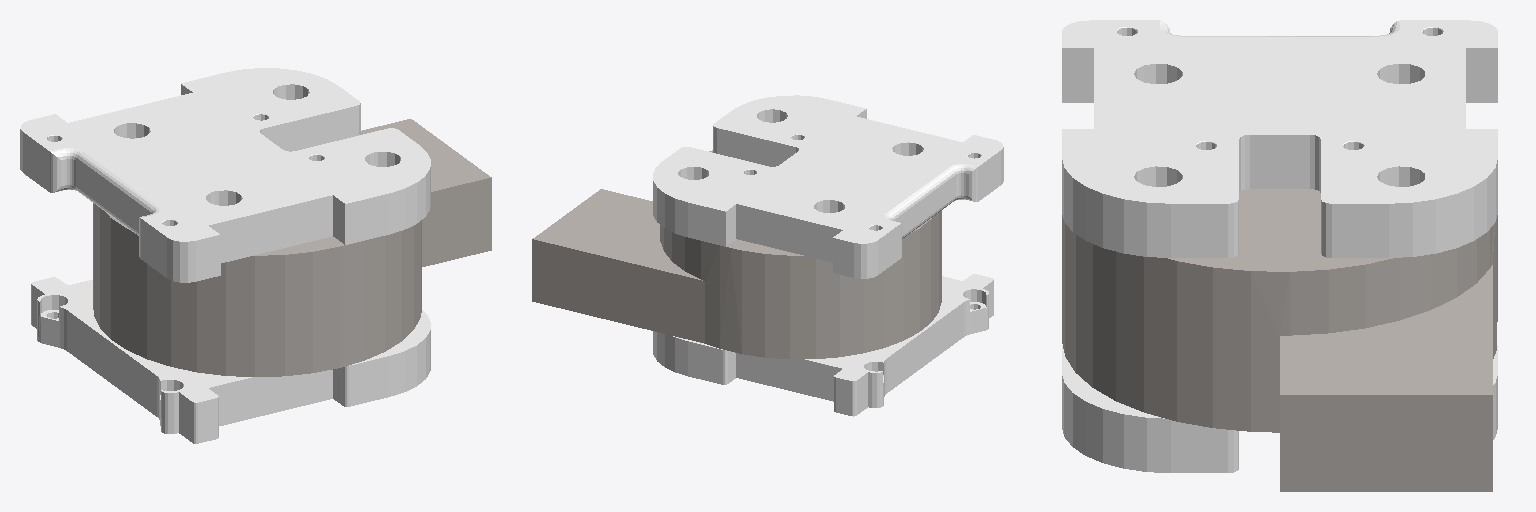
robot.urdf — FT_Electric2:
<?xml version="1.0" ?>
<robot
  name="FT_Electric2">
  <link
    name="FT_bottom_plate">
    <inertial>
      <origin
        xyz="-0.0051288 -0.070659 0.18619"
        rpy="0 0 0" />
      <mass
        value="0.051726" />
      <inertia
        ixx="2.5588E-05"
        ixy="2.4673E-08"
        ixz="-3.8072E-21"
        iyy="4.7997E-05"
        iyz="-1.6535E-21"
        izz="2.3459E-05" />
    </inertial>
    <visual>
      <origin
        xyz="0 0 0"
        rpy="0 0 0" />
      <geometry>
        <mesh
          filename="package://baxter_description/urdf/FT_Electric2/meshes/FT_bottom_plate.STL" />
      </geometry>
      <material
        name="">
        <color
          rgba="1 1 1 1" />
      </material>
    </visual>
    <collision>
      <origin
        xyz="0 0 0"
        rpy="0 0 0" />
      <geometry>
        <mesh
          filename="package://baxter_description/urdf/FT_Electric2/meshes/FT_bottom_plate.STL" />
      </geometry>
    </collision>
  </link>
  <link
    name="FT">
    <inertial>
      <origin
        xyz="0.0030381 0.0065967 0.01714"
        rpy="0 0 0" />
      <mass
        value="1.4264" />
      <inertia
        ixx="0.0010241"
        ixy="0.00016944"
        ixz="2.4095E-05"
        iyy="0.00071846"
        iyz="5.2318E-05"
        izz="0.0014993" />
    </inertial>
    <visual>
      <origin
        xyz="0 0 0"
        rpy="0 0 0" />
      <geometry>
        <mesh
          filename="package://baxter_description/urdf/FT_Electric2/meshes/FT.STL" />
      </geometry>
      <material
        name="">
        <color
          rgba="0.77647 0.75686 0.73725 1" />
      </material>
    </visual>
    <collision>
      <origin
        xyz="0 0 0"
        rpy="0 0 0" />
      <geometry>
        <mesh
          filename="package://baxter_description/urdf/FT_Electric2/meshes/FT.STL" />
      </geometry>
    </collision>
  </link>
  <joint
    name="FT_Bottom_Joint"
    type="fixed">
    <origin
      xyz="0.000838540084873874 -0.186192210057174 -0.0326798827071635"
      rpy="3.14159265358979 6.12303176911189E-17 1.5707963267949" />
    <parent
      link="FT_bottom_plate" />
    <child
      link="FT" />
    <axis
      xyz="0 0 0" />
  </joint>
  <link
    name="FT_Top_Plate">
    <inertial>
      <origin
        xyz="-3.2056E-10 0.0092556 0.0055057"
        rpy="0 0 0" />
      <mass
        value="0.053196" />
      <inertia
        ixx="2.5333E-05"
        ixy="5.8629E-13"
        ixz="-4.7319E-16"
        iyy="2.7087E-05"
        iyz="2.2091E-08"
        izz="5.1339E-05" />
    </inertial>
    <visual>
      <origin
        xyz="0 0 0"
        rpy="0 0 0" />
      <geometry>
        <mesh
          filename="package://baxter_description/urdf/FT_Electric2/meshes/FT_Top_Plate.STL" />
      </geometry>
      <material
        name="">
        <color
          rgba="1 1 1 1" />
      </material>
    </visual>
    <collision>
      <origin
        xyz="0 0 0"
        rpy="0 0 0" />
      <geometry>
        <mesh
          filename="package://baxter_description/urdf/FT_Electric2/meshes/FT_Top_Plate.STL" />
      </geometry>
    </collision>
  </link>
  <joint
    name="FT_Top_Joint"
    type="fixed">
    <origin
      xyz="0 -0.0160000000000059 -0.011"
      rpy="-3.46944695195361E-16 0 0" />
    <parent
      link="FT" />
    <child
      link="FT_Top_Plate" />
    <axis
      xyz="0 0 0" />
  </joint>
</robot>

--- Render facts (derived) ---
3 views of the same robot in one strip: view 1: azimuth 30°, elevation 25°; view 2: azimuth 150°, elevation 25°; view 3: azimuth 270°, elevation 25° (orthographic).
Robot: FT_Electric2 — 3 links, 2 joints (2 fixed); root link FT_bottom_plate; default pose: every joint at zero.
Visible links, largest first — view 1: FT_Top_Plate, FT, FT_bottom_plate; view 2: FT, FT_Top_Plate, FT_bottom_plate; view 3: FT, FT_Top_Plate, FT_bottom_plate.
Link boxes in pixels (x1=…): FT_Top_Plate: x1=20, y1=68, x2=430, y2=282; FT: x1=93, y1=119, x2=491, y2=376; FT_bottom_plate: x1=31, y1=277, x2=430, y2=443; FT: x1=532, y1=150, x2=941, y2=359; FT_Top_Plate: x1=653, y1=95, x2=1003, y2=278; FT_bottom_plate: x1=653, y1=274, x2=993, y2=416; FT: x1=1062, y1=189, x2=1497, y2=491; FT_Top_Plate: x1=1062, y1=20, x2=1497, y2=257; FT_bottom_plate: x1=1062, y1=345, x2=1497, y2=472.
Bounding box of the posed robot: 0.111 × 0.08 × 0.0545 m (x, y, z).
Meshes: 3 distinct files referenced, 3 mesh visuals loaded (3 binary STL).